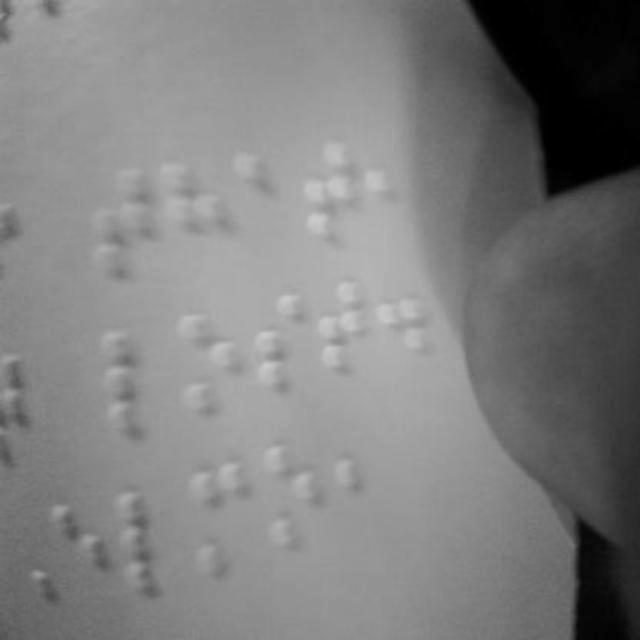braiile: (115, 488, 178, 608), (50, 497, 116, 609), (256, 440, 320, 552), (308, 274, 368, 388), (299, 134, 357, 250), (178, 308, 238, 414), (167, 156, 223, 268), (190, 462, 246, 574), (95, 172, 153, 280), (240, 150, 296, 260), (100, 328, 158, 428), (248, 292, 302, 396)
